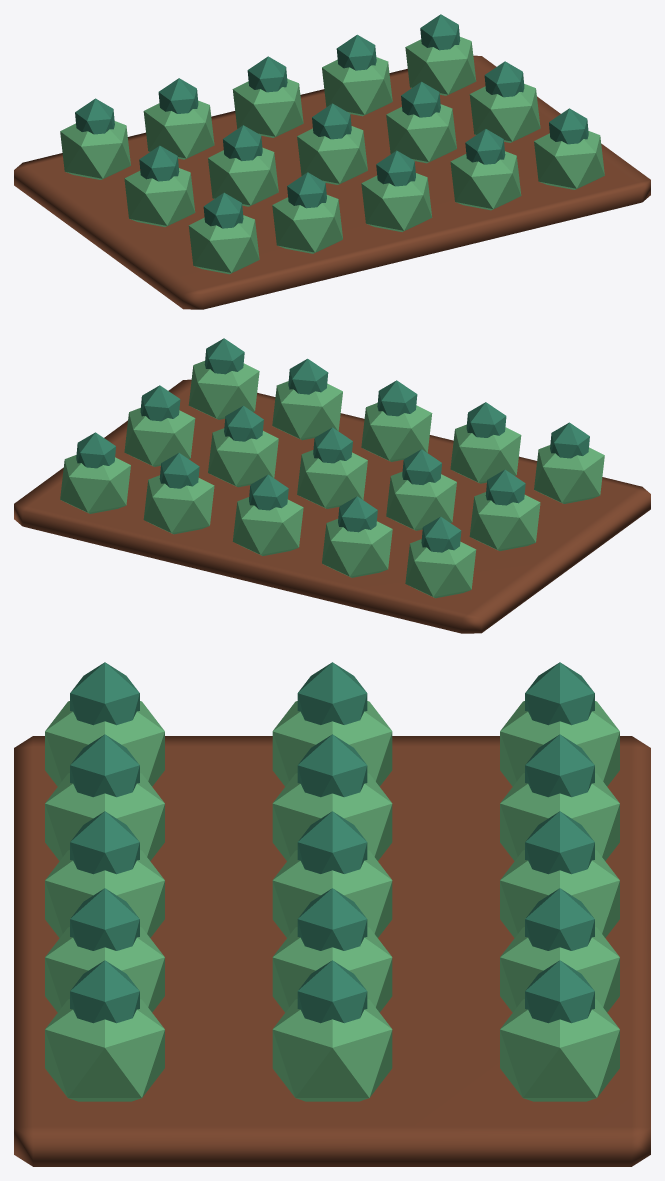
The model's file is cultivated_field.glb.
3 renders of one model, top to bottom at view 1: azimuth 30°, elevation 25°; view 2: azimuth 150°, elevation 25°; view 3: azimuth 270°, elevation 25°, orthographic. The views are drawn at different scales.
Visible parts, largest first — view 1: Garden soil, Leafy crop.003, Leafy crop.002, Leafy crop, Leafy crop.005, Leafy crop.004, Leafy crop.001, Leafy crop.010, Leafy crop.012, Leafy crop.008, Leafy crop.013, Leafy crop.007 (+19 smaller); view 2: Garden soil, Leafy crop.013, Leafy crop.012, Leafy crop.010, Leafy crop.005, Leafy crop.014, Leafy crop, Leafy crop.011, Leafy crop.002, Leafy crop.008, Leafy crop.003, Leafy crop.007 (+19 smaller); view 3: Garden soil, Leafy crop.009, Leafy crop.004, Leafy crop.014, Leafy crop.006, Leafy crop.007, Leafy crop.001, Leafy crop.011, Leafy crop.002, Leafy crop.012, Leafy crop.005, Leafy crop.008 (+19 smaller).
Part boxes in pixels (x1,y1,x2,y2): Garden soil: [14, 55, 650, 309]; Leafy crop.003: [450, 151, 521, 210]; Leafy crop.002: [361, 173, 432, 231]; Leafy crop: [188, 215, 259, 274]; Leafy crop.005: [124, 168, 195, 226]; Leafy crop.004: [534, 131, 604, 189]; Leafy crop.001: [272, 195, 342, 253]; Leafy crop.010: [60, 121, 130, 179]; Leafy crop.012: [232, 79, 303, 137]; Leafy crop.008: [386, 104, 456, 163]; Leafy crop.013: [322, 57, 392, 116]; Leafy crop.007: [297, 126, 367, 184]; Garden soil: [14, 379, 650, 633]; Leafy crop.013: [143, 475, 214, 534]; Leafy crop.012: [232, 497, 303, 555]; Leafy crop.010: [405, 539, 476, 598]; Leafy crop.005: [469, 492, 540, 550]; Leafy crop.014: [60, 455, 130, 513]; Leafy crop: [534, 445, 604, 503]; Leafy crop.011: [322, 519, 392, 577]; Leafy crop.002: [361, 403, 432, 461]; Leafy crop.008: [208, 428, 278, 487]; Leafy crop.003: [272, 381, 342, 440]; Leafy crop.007: [297, 450, 367, 508]; Garden soil: [14, 736, 650, 1166]; Leafy crop.009: [272, 999, 392, 1101]; Leafy crop.004: [45, 999, 164, 1101]; Leafy crop.014: [500, 999, 619, 1101]; Leafy crop.006: [272, 773, 392, 860]; Leafy crop.007: [272, 850, 392, 937]; Leafy crop.001: [45, 773, 164, 860]; Leafy crop.011: [500, 773, 619, 860]; Leafy crop.002: [45, 850, 164, 937]; Leafy crop.012: [500, 850, 619, 937]; Leafy crop.005: [272, 701, 392, 786]; Leafy crop.008: [272, 927, 392, 1012].
Bounding box in the file's own units: 4.2 × 0.75 × 2.8.
